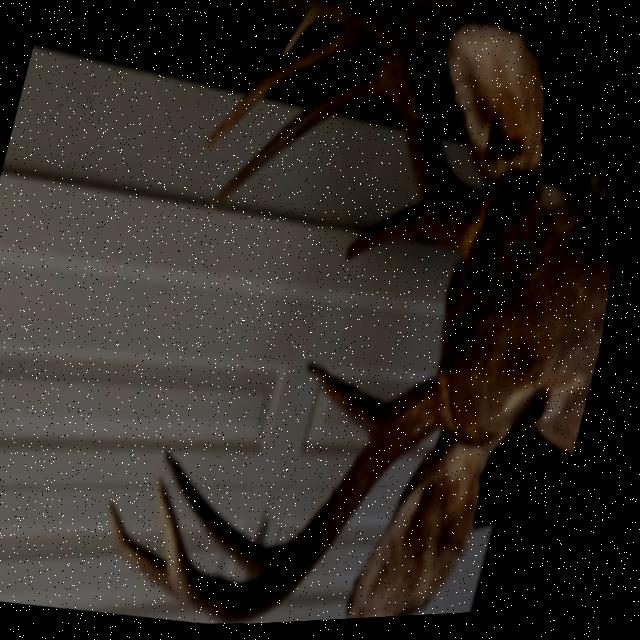L-F: (283, 0, 495, 268)
L-G1: (348, 205, 437, 268)
L-G2: (212, 73, 388, 217)
L-G3: (206, 30, 364, 152)
R-F: (164, 380, 459, 627)
R-G1: (312, 363, 403, 442)
R-G2: (173, 450, 295, 583)
R-G3: (117, 502, 185, 598)
